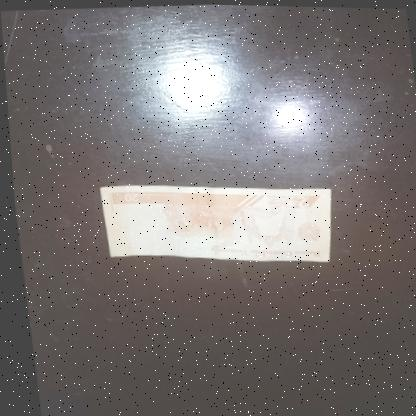twenty-back-vef: (94, 172, 337, 273)
